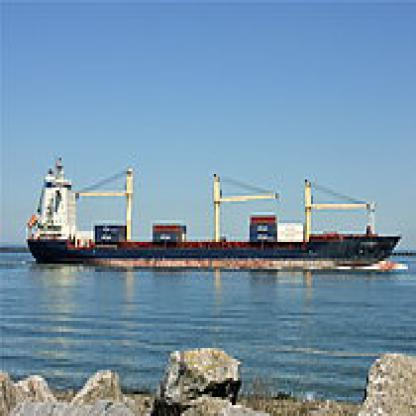Container Ship: (24, 154, 402, 269)
